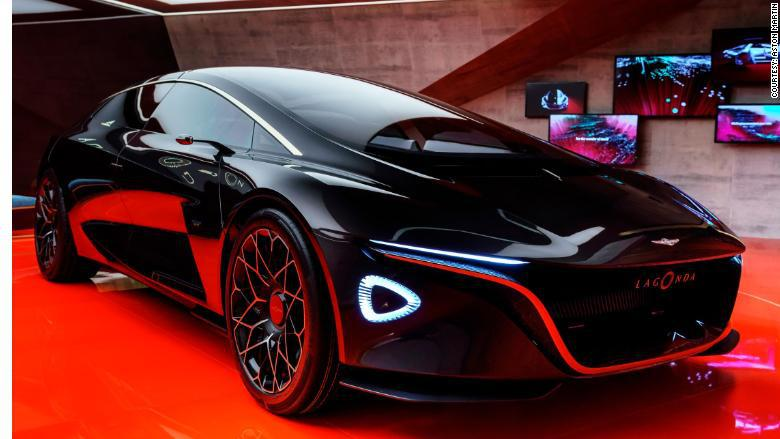car: (33, 59, 754, 410)
